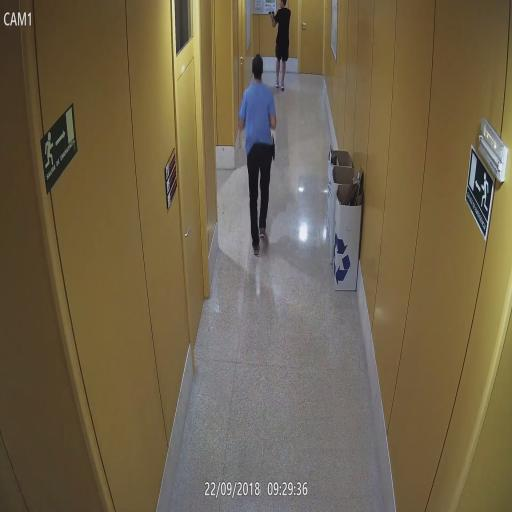Handgun: (267, 7, 275, 19)
